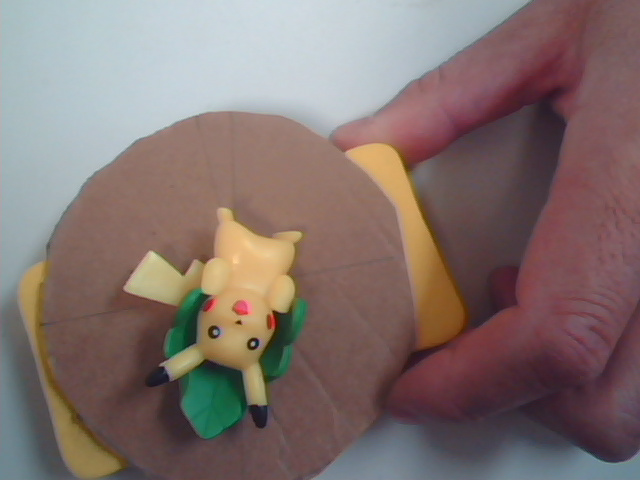pikachu: (103, 200, 356, 453)
